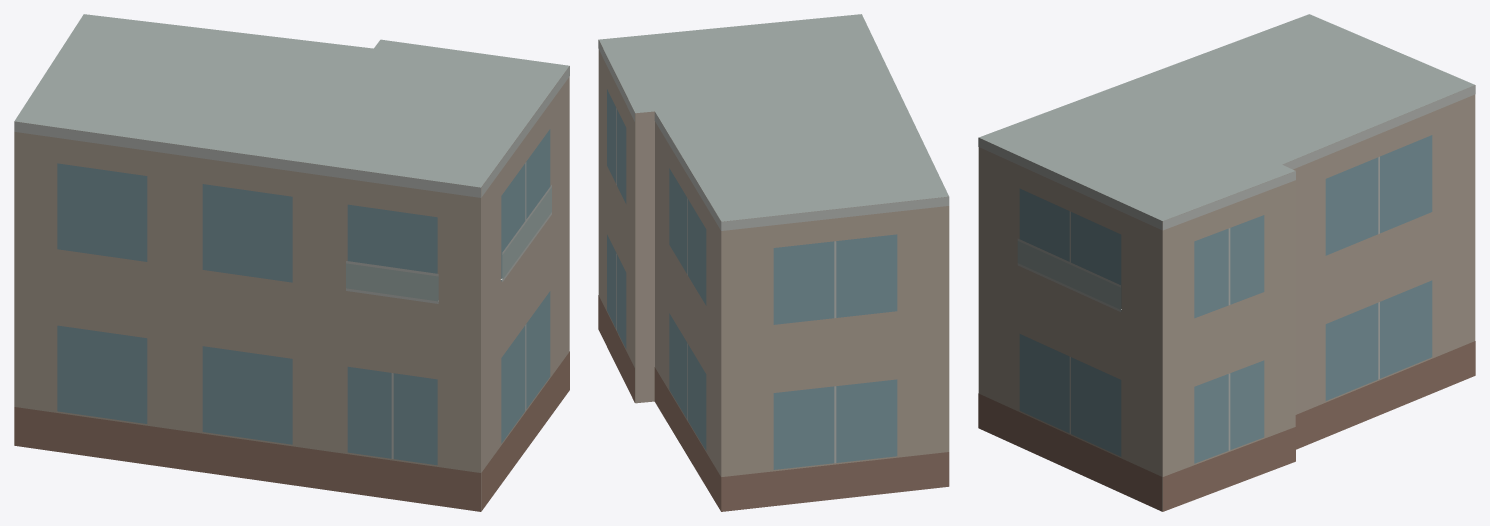
The model's file is survey-upis-32889101.glb.
3 renders of one model, left to right at view 1: azimuth 30°, elevation 25°; view 2: azimuth 150°, elevation 25°; view 3: azimuth 270°, elevation 25°, orthographic. The views are drawn at different scales.
Parts seen in each view (by area): view 1: survey-upis-32889101.tmp; view 2: survey-upis-32889101.tmp; view 3: survey-upis-32889101.tmp.
Boxes of the visible parts, bbox=[...] form: survey-upis-32889101.tmp: bbox=[14, 14, 569, 511]; survey-upis-32889101.tmp: bbox=[598, 14, 949, 511]; survey-upis-32889101.tmp: bbox=[978, 14, 1475, 511].
Bounding box in the file's own units: 11.63 × 7.6 × 11.78.
